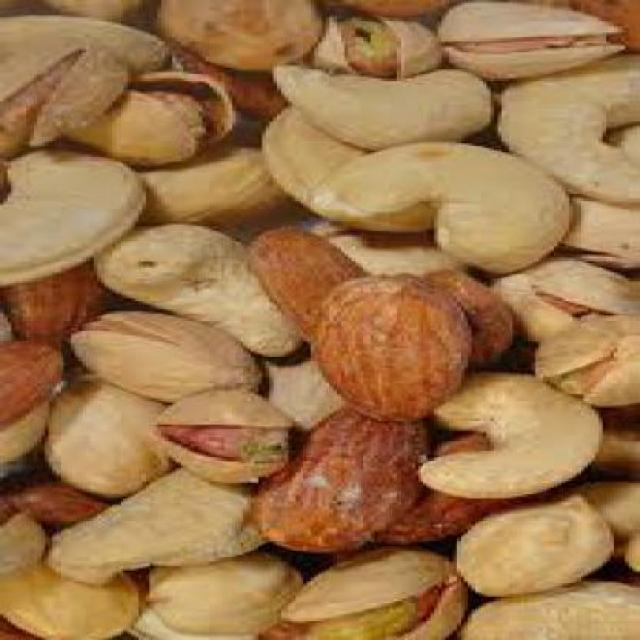Frutta secca: (14, 13, 628, 638)
